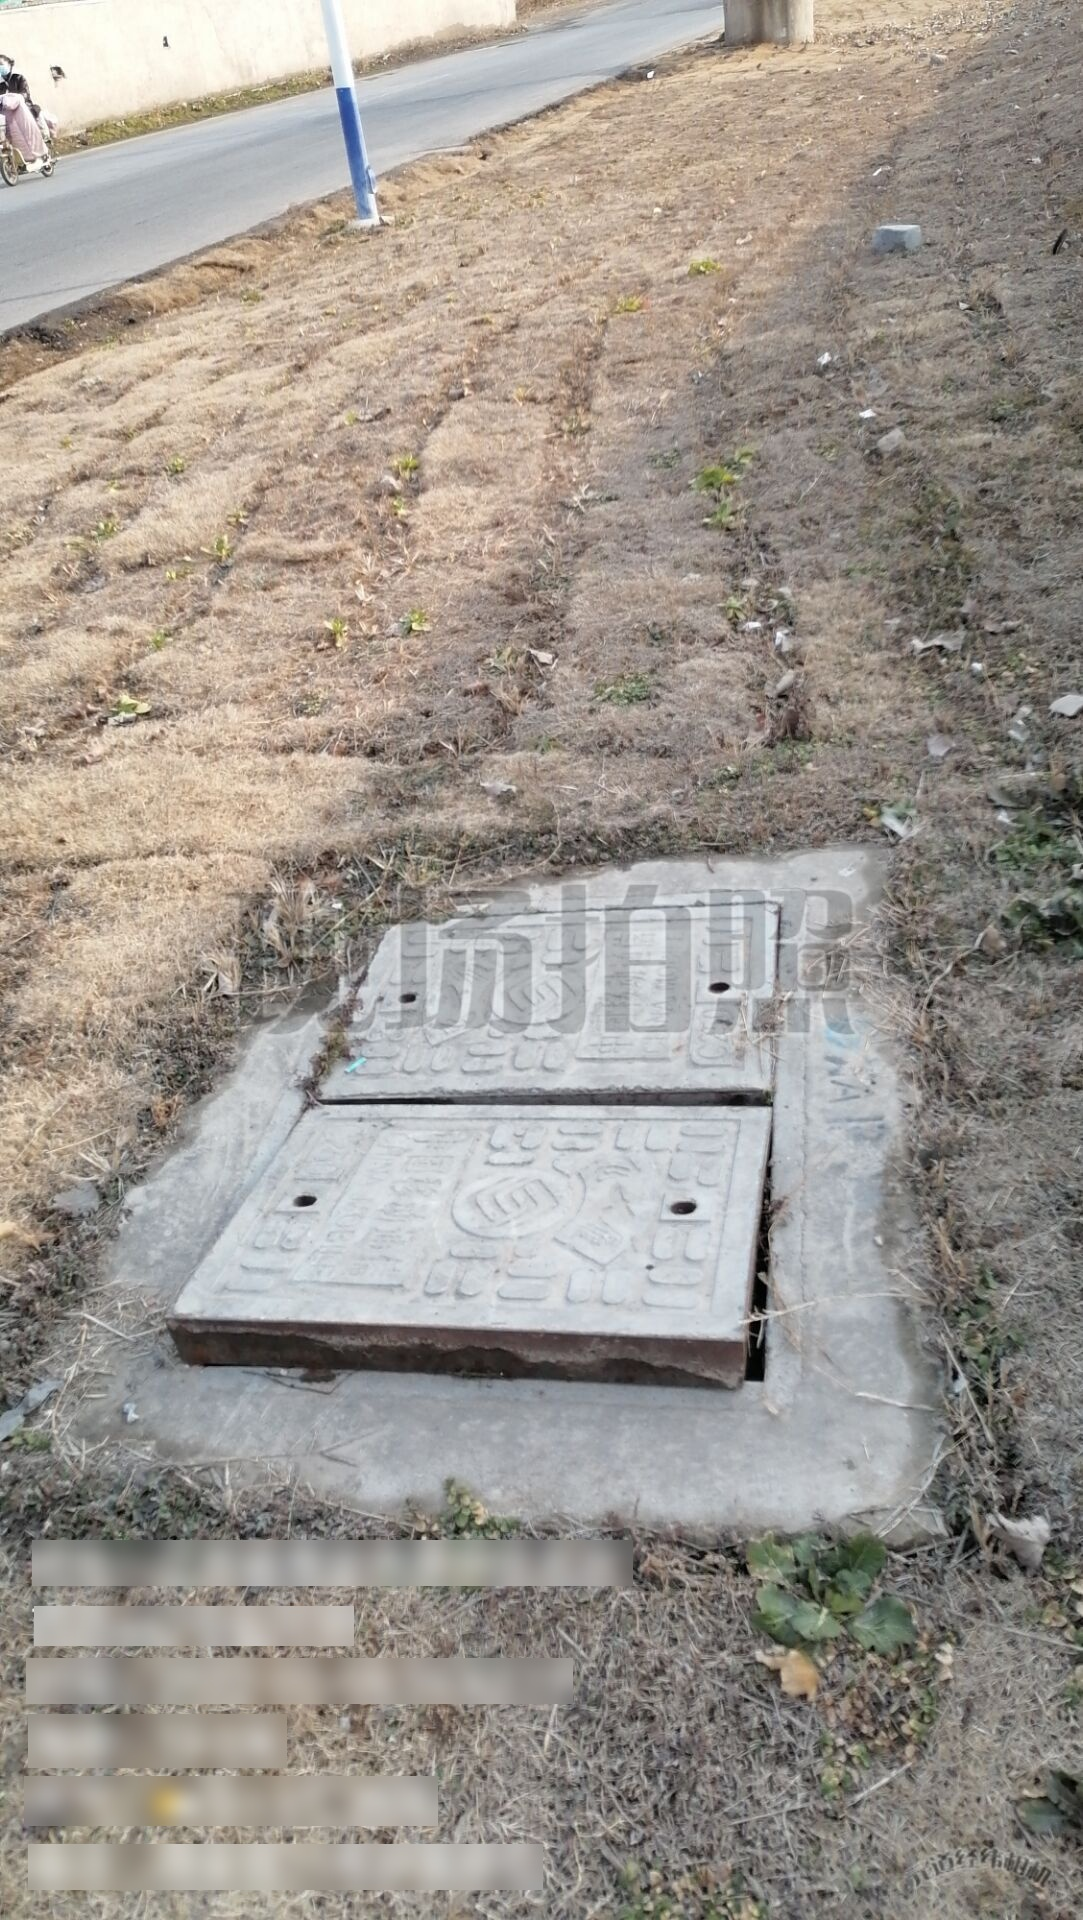uncovered: (157, 898, 790, 1404)
